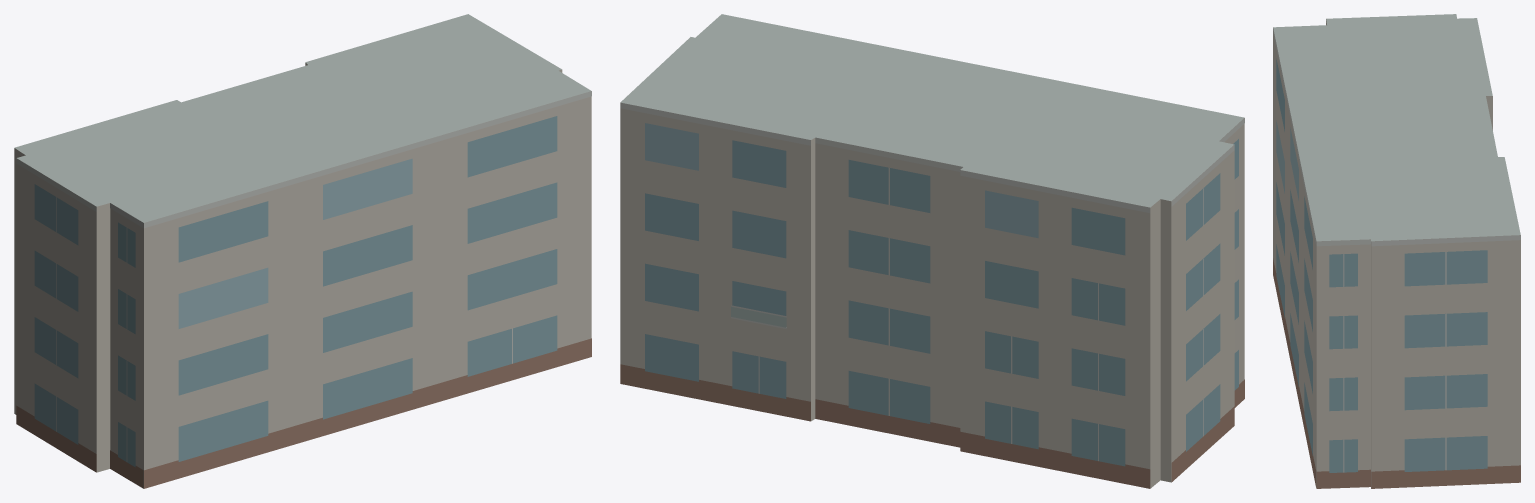
File: survey-upis-32955104.glb
The picture shows the model from 3 angles, left to right: view 1: azimuth 30°, elevation 25°; view 2: azimuth 150°, elevation 25°; view 3: azimuth 270°, elevation 25°; orthographic projection. The views are drawn at different scales.
Parts seen in each view (by area): view 1: survey-upis-32955104.tmp; view 2: survey-upis-32955104.tmp; view 3: survey-upis-32955104.tmp.
Boxes of the visible parts, box(x1,y1,x2,y2) form: survey-upis-32955104.tmp: box(14, 14, 591, 488); survey-upis-32955104.tmp: box(620, 14, 1244, 488); survey-upis-32955104.tmp: box(1273, 14, 1520, 488).
Bounding box in the file's own units: 23.63 × 12 × 10.89.
